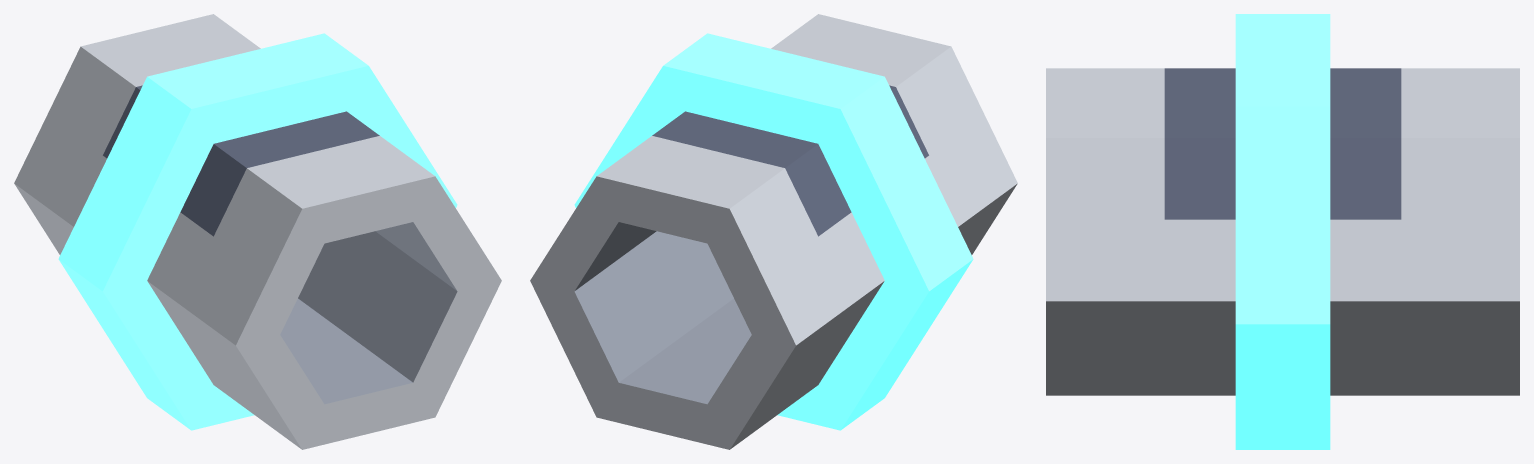
Rendered from pipe_ring.glb.
3 views of the same model, side by side, from view 1: azimuth 30°, elevation 25°; view 2: azimuth 150°, elevation 25°; view 3: azimuth 270°, elevation 25° (orthographic). The views are drawn at different scales.
Visible parts, largest first — view 1: pipe_ring; view 2: pipe_ring; view 3: pipe_ring.
Part boxes in pixels (x1,y1,x2,y2): pipe_ring: (14,14,501,449); pipe_ring: (530,14,1017,449); pipe_ring: (1046,14,1519,449).
Size of the model in its own units: 0.9238 by 0.8 by 1.
